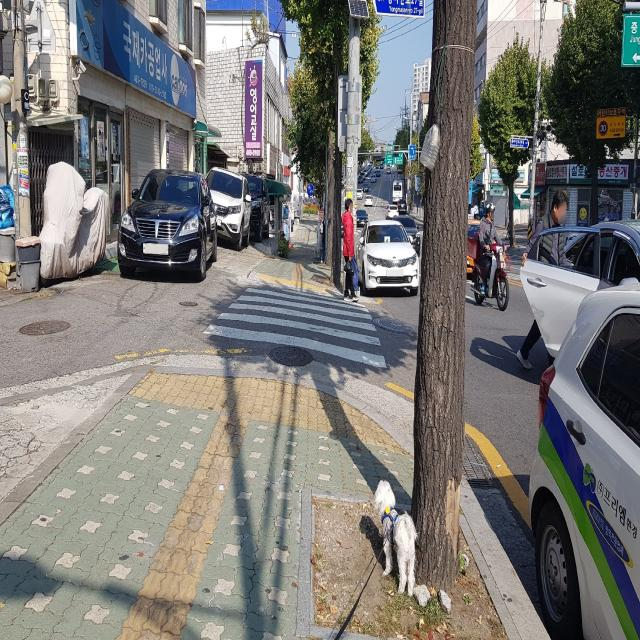횡단보도: (206, 281, 386, 370)
